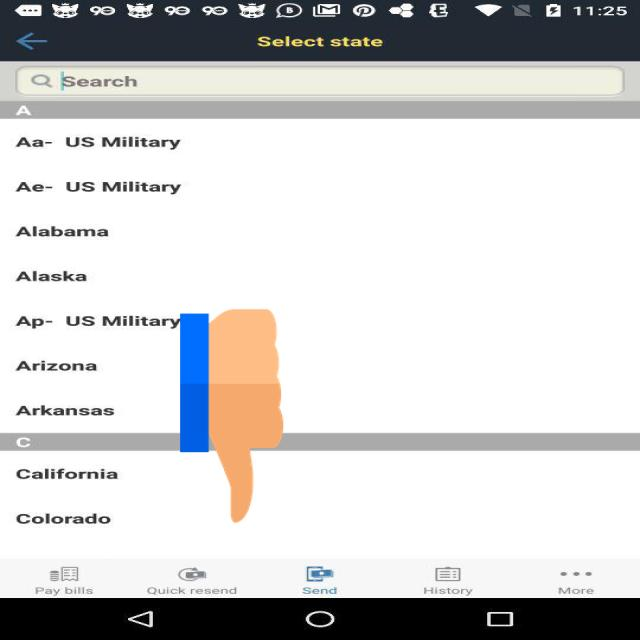obstruction: (180, 304, 283, 528)
